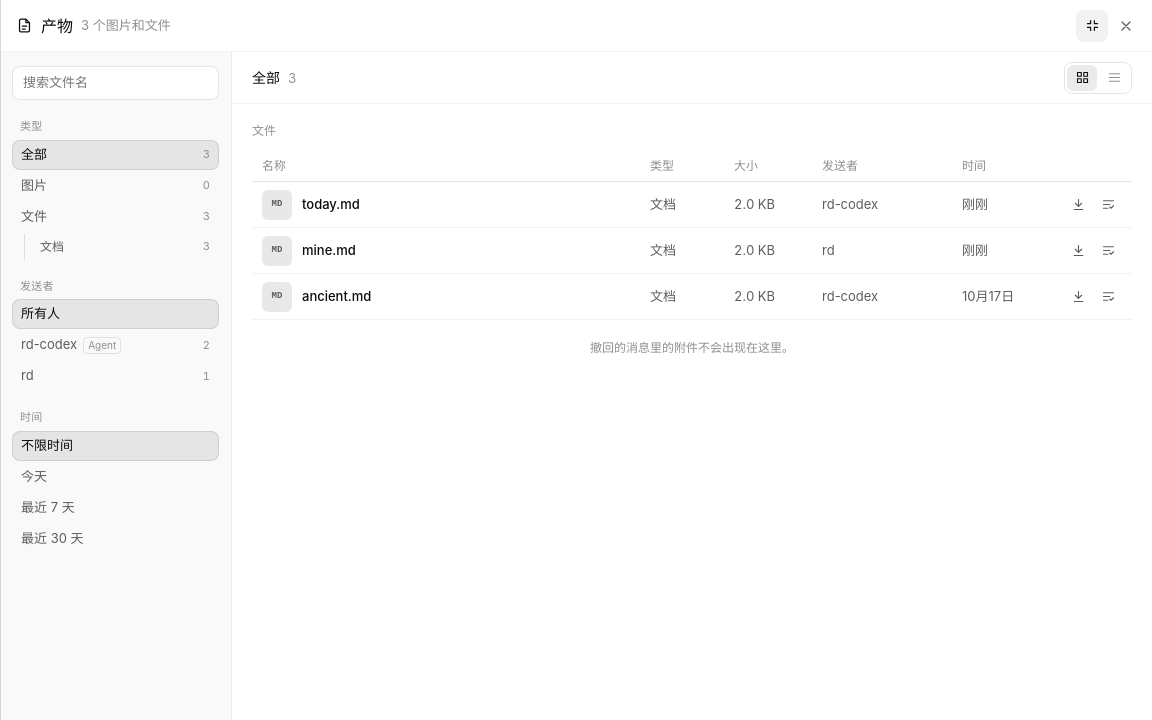
Test: ArtifactsPanel › filters by sender and time range without moving the header badge
The width and height of the screenshot is (1152, 720).
Click the button "rd 1". click: [116, 376]
box: [12, 361, 219, 391]
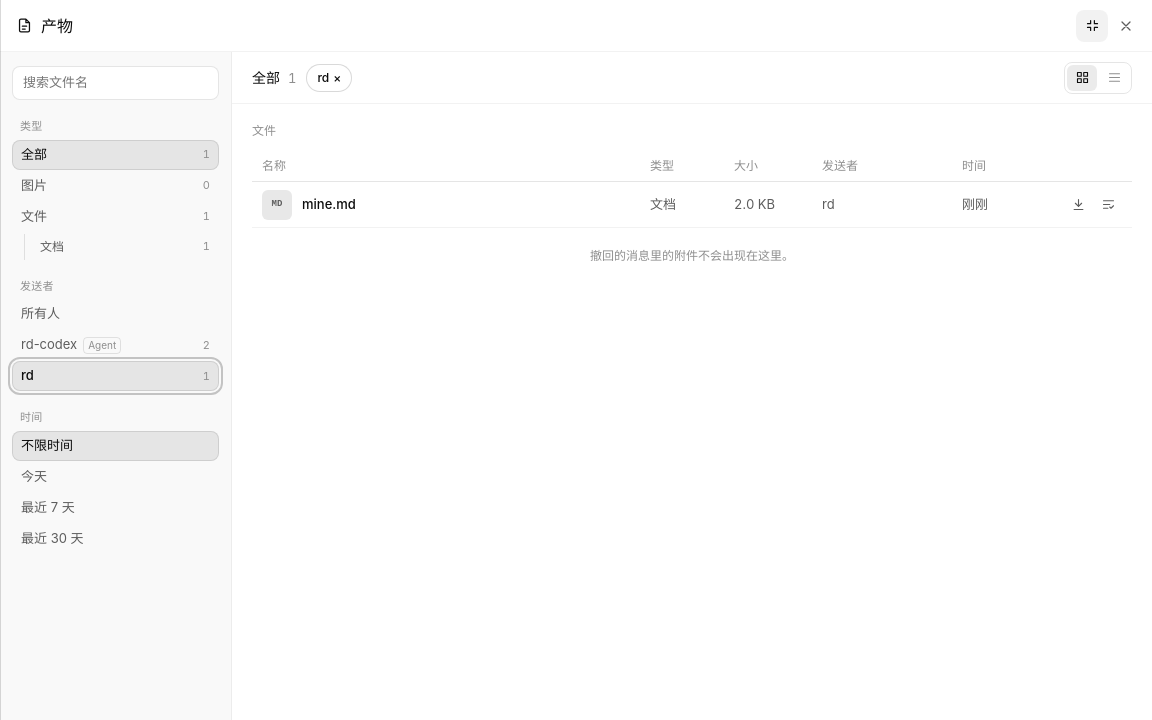
Expected: the text "mine.md" is shown, [302, 195, 356, 214]
Now the button "today.md" is gone
Click the button "所有人". click: [116, 314]
box: [12, 299, 219, 329]
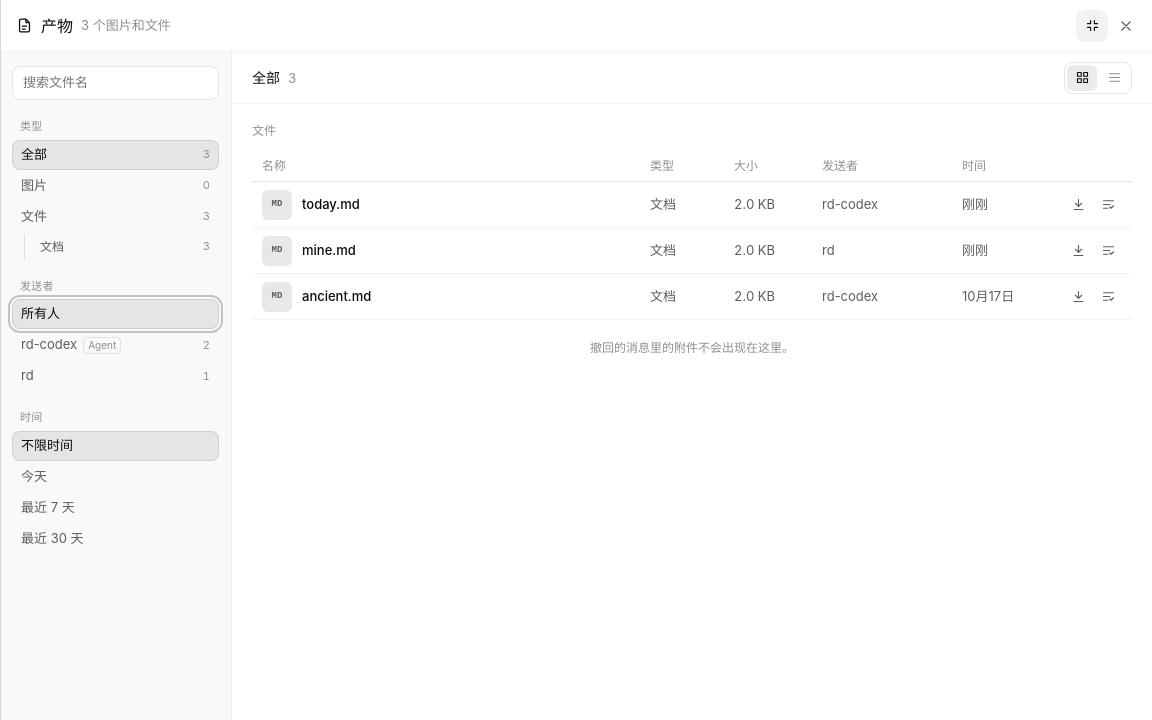
Click the button "最近 30 天". click: [116, 538]
box: [12, 524, 219, 554]
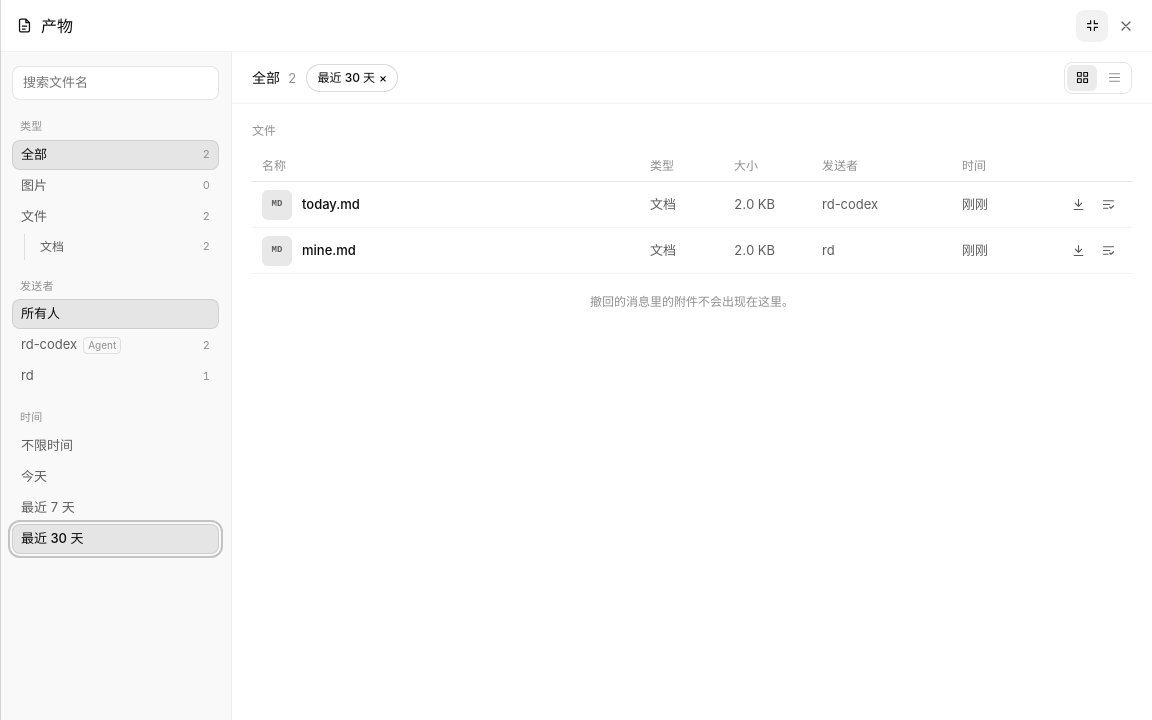
Now the text "today.md" is shown, box [302, 195, 360, 214]
Now the button "ancient.md" is gone
# 顶上的范围标签一键清除
Click the button named "清除发送者和时间筛选". click: [352, 78]
box: [306, 64, 398, 92]
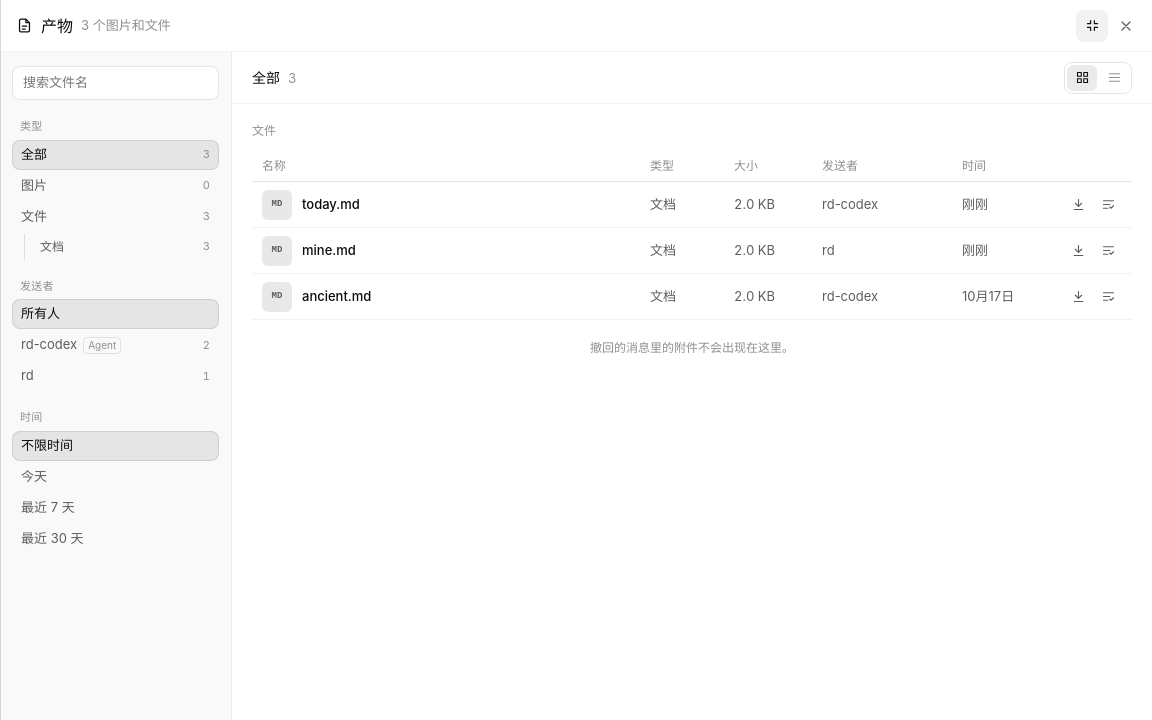
Now the text "ancient.md" is shown, box [302, 287, 371, 306]
